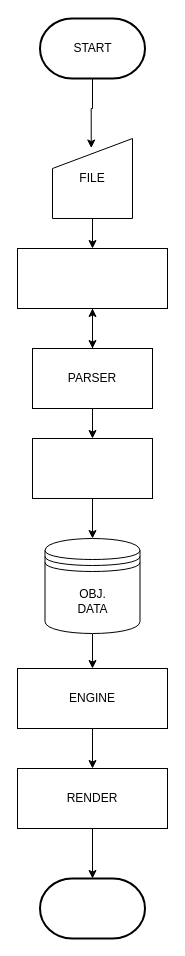
Some shapes in this 185 by 956 pixel diagram are drawn without their labels. Each missing label, with the centre of its shape:
CONTENT VALIDATION: point (92, 468)
END: point (92, 908)
FILE NAME VALIDATION: point (92, 278)
